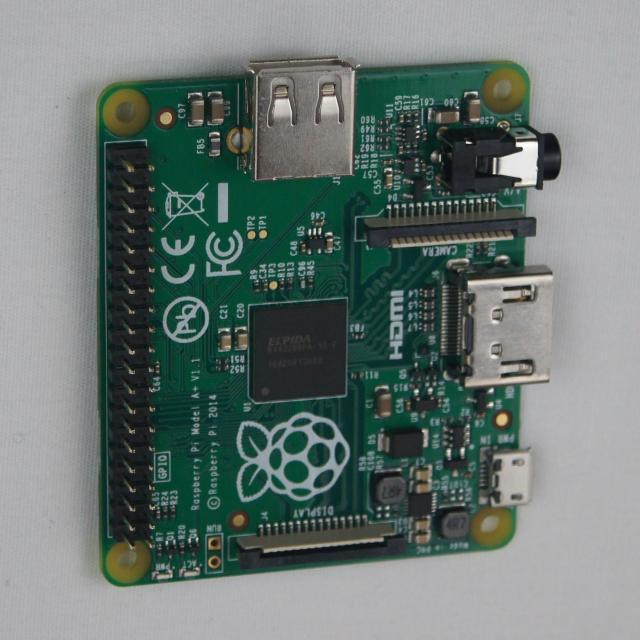Raspberry-Pi-1-A-: (99, 57, 562, 585)
